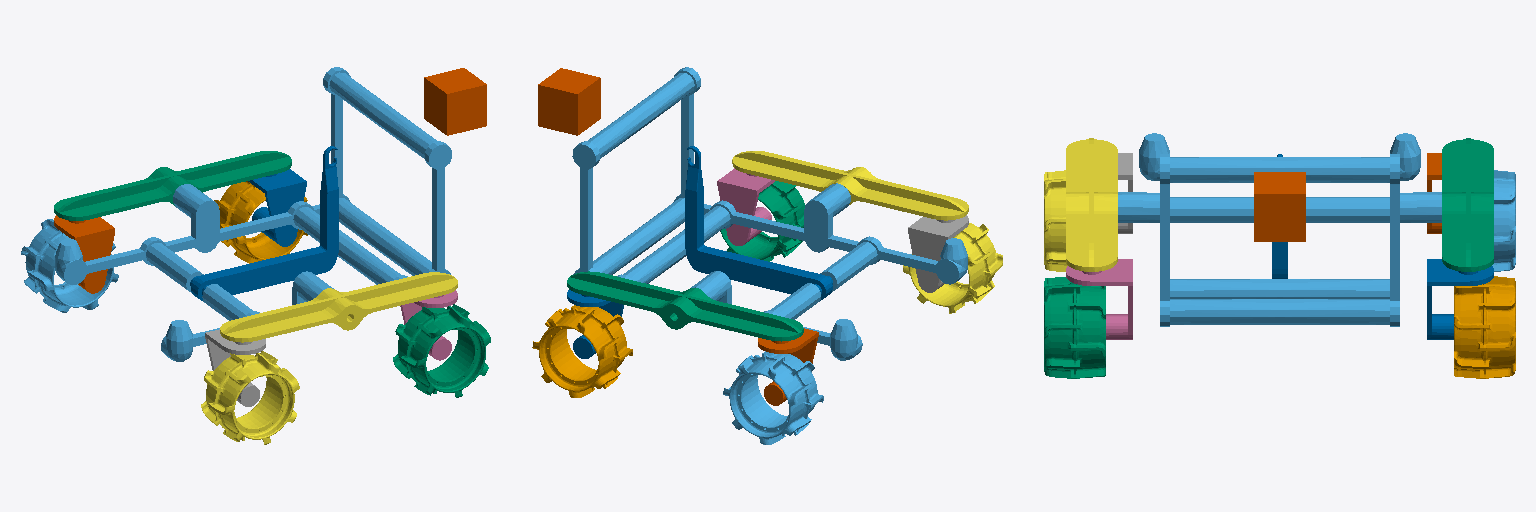
The robot description file, URDF, robot "RoRoverDiff":
<?xml version="1.0"?>
<robot name="RoRoverDiff">

<!-- ROS Control Plugin used to drive locomotion system and hook -->
  <gazebo>
    <plugin name="gazebo_ros_control" filename="libgazebo_ros_control.so">
      <!--robotNamespace>/rorover</robotNamespace-->
    </plugin>
  </gazebo>

<!-- dummy root link to support KDL -->
  <link name="base_link" />

  <joint name="base_link_to_chassis" type="fixed">
    <parent link="base_link"/>
    <child link="chassis"/>
  </joint>

<!-- Root Chassis -->
      <link name='chassis'>
        <collision>
          <origin xyz="0.0 0.0 0.0" rpy="0.0 0.0 0.0" />
          <geometry>
            <mesh filename="package://rorover_skid_steer/meshes/DifferentialChassis.stl" />
          </geometry>
          <surface>
            <bounce>
              <restitution_coefficient>0.35</restitution_coefficient>
              <threshold>0.025</threshold>
            </bounce>
          </surface>
        </collision>
        <visual>
          <origin xyz="0.0 0.0 0.0" rpy="0.0 0.0 0.0" />
          <geometry>
            <mesh filename="package://rorover_skid_steer/meshes/DifferentialChassis.stl" />
          </geometry>
        </visual>
      <inertial>
        <mass value="5.306" />
        <origin xyz="0.123149 0.0 0.06677"
                rpy="0.0 -0.2556907354 0.0" />
        <inertia
 	  ixx="0.221974787" ixy="0.0" ixz="0.0"
	  iyy="0.341467333" iyz="0.0"
	  izz="0.454114912" />
      </inertial>
      </link>

<!-- Left Differential Suspension Arm -->
      <link name='left_arm'>
        <collision>
          <origin xyz="0.0 0.0 0.0" rpy="0.0 0.0 0.0" />
          <geometry>
            <mesh filename="package://rorover_skid_steer/meshes/SuspensionArm.stl" />
          </geometry>
          <surface>
            <bounce>
              <restitution_coefficient>0.35</restitution_coefficient>
              <threshold>0.025</threshold>
            </bounce>
          </surface>
        </collision>
        <visual>
          <origin xyz="0.0 0.0 0.0" rpy="0.0 0.0 0.0" />
          <geometry>
            <mesh filename="package://rorover_skid_steer/meshes/SuspensionArm.stl" />
          </geometry>
        </visual>
      <inertial>
        <mass value="0.906" />
        <origin xyz="0.0 0.0 0.004832"
                rpy="0.0 0.0 0.0" />
        <inertia
 	  ixx="0.000742332" ixy="0.0" ixz="0.0"
	  iyy="0.018848023" iyz="0.0"
	  izz="0.019383356" />
      </inertial>
      </link>

      <joint type="fixed" name="left_arm_hinge">
	<origin xyz="0.0 0.36 0.065"
                rpy="0.0 0.0 0.0" />
        <child link="left_arm" />
        <parent link="chassis" />
        <!--axis xyz="0 1 0" />
        <limit lower="-0.2" upper="0.2" effort="100" velocity="1.0" />
        <dynamics damping="0.1" /-->
      </joint>

<!-- Right Differential Suspension Arm -->
      <link name='right_arm'>
        <collision>
          <origin xyz="0.0 0.0 0.0" rpy="0.0 0.0 0.0" />
          <geometry>
            <mesh filename="package://rorover_skid_steer/meshes/SuspensionArm.stl" />
          </geometry>
          <surface>
            <bounce>
              <restitution_coefficient>0.35</restitution_coefficient>
              <threshold>0.025</threshold>
            </bounce>
          </surface>
        </collision>
        <visual>
          <origin xyz="0.0 0.0 0.0" rpy="0.0 0.0 0.0" />
          <geometry>
            <mesh filename="package://rorover_skid_steer/meshes/SuspensionArm.stl" />
          </geometry>
        </visual>
      <inertial>
        <mass value="0.906" />
        <origin xyz="0.0 0.0 0.004832"
                rpy="0.0 0.0 0.0" />
        <inertia
 	  ixx="0.000742332" ixy="0.0" ixz="0.0"
	  iyy="0.018848023" iyz="0.0"
	  izz="0.019383356" />
      </inertial>
      </link>

      <joint type="fixed" name="right_arm_hinge">
	<origin xyz="0.0 -0.36 0.065"
                rpy="0.0 0.0 0.0" />
        <child link="right_arm" />
        <parent link="chassis" />
        <!--axis xyz="0 -1 0" />
        <limit lower="-0.2" upper="0.2" effort="100" velocity="1.0" />
        <mimic joint="left_arm_hinge" /-->
      </joint>

<!-- Mimic Joint plugin to create differential suspension -->
  <!--gazebo>
    <plugin name="gazebo_mimic_joint" filename="libroboticsgroup_gazebo_mimic_joint_plugin.so">
      <joint>left_arm_hinge</joint>
        <mimicJoint>right_arm_hinge</mimicJoint>
        <multiplier>1.0</multiplier>
        <sensitiveness>0.0</sensitiveness>   
        <maxEffort>100.0</maxEffort>             
      </plugin>
  </gazebo-->

<!-- Left Front Steering Arm -->
      <link name='left_front_steering'>
        <collision>
          <origin xyz="0.0 0.0 0.0" rpy="0.0 0.0 0.0" />
          <geometry>
            <mesh filename="package://rorover_skid_steer/meshes/SteeringArm.stl" />
          </geometry>
          <surface>
            <bounce>
              <restitution_coefficient>0.35</restitution_coefficient>
              <threshold>0.025</threshold>
            </bounce>
          </surface>
        </collision>
        <visual>
          <origin xyz="0.0 0.0 0.0" rpy="0.0 0.0 0.0" />
          <geometry>
            <mesh filename="package://rorover_skid_steer/meshes/SteeringArm.stl" />
          </geometry>
        </visual>
      <inertial>
        <mass value="0.420" />
        <origin xyz="0.0 0.030299 -0.082164"
                rpy="-0.0218166156 0.0 0.0" />
        <inertia
 	  ixx="0.001752153" ixy="0.0" ixz="0.0"
	  iyy="0.001383863" iyz="0.0"
	  izz="0.000702665" />
      </inertial>
      </link>

      <joint type="fixed" name="left_front_steering_joint">
	<origin xyz="0.24 0.0 -0.01"
                rpy="0.0 0.0 3.1416" />
        <child link="left_front_steering" />
        <parent link="left_arm" />
      </joint>

<!-- Left Rear Steering Arm -->
      <link name='left_rear_steering'>
        <collision>
          <origin xyz="0.0 0.0 0.0" rpy="0.0 0.0 0.0" />
          <geometry>
            <mesh filename="package://rorover_skid_steer/meshes/SteeringArm.stl" />
          </geometry>
          <surface>
            <bounce>
              <restitution_coefficient>0.35</restitution_coefficient>
              <threshold>0.025</threshold>
            </bounce>
          </surface>
        </collision>
        <visual>
          <origin xyz="0.0 0.0 0.0" rpy="0.0 0.0 0.0" />
          <geometry>
            <mesh filename="package://rorover_skid_steer/meshes/SteeringArm.stl" />
          </geometry>
        </visual>
      <inertial>
        <mass value="0.420" />
        <origin xyz="0.0 0.030299 -0.082164"
                rpy="-0.0218166156 0.0 0.0" />
        <inertia
 	  ixx="0.001752153" ixy="0.0" ixz="0.0"
	  iyy="0.001383863" iyz="0.0"
	  izz="0.000702665" />
      </inertial>
      </link>

      <joint type="fixed" name="left_rear_steering_joint">
	<origin xyz="-0.24 0.0 -0.01"
                rpy="0.0 0.0 3.1416" />
        <child link="left_rear_steering" />
        <parent link="left_arm" />
      </joint>

<!-- Right Front Steering Arm -->
      <link name='right_front_steering'>
        <collision>
          <origin xyz="0.0 0.0 0.0" rpy="0.0 0.0 0.0" />
          <geometry>
            <mesh filename="package://rorover_skid_steer/meshes/SteeringArm.stl" />
          </geometry>
          <surface>
            <bounce>
              <restitution_coefficient>0.35</restitution_coefficient>
              <threshold>0.025</threshold>
            </bounce>
          </surface>
        </collision>
        <visual>
          <origin xyz="0.0 0.0 0.0" rpy="0.0 0.0 0.0" />
          <geometry>
            <mesh filename="package://rorover_skid_steer/meshes/SteeringArm.stl" />
          </geometry>
        </visual>
      <inertial>
        <mass value="0.420" />
        <origin xyz="0.0 0.030299 -0.082164"
                rpy="-0.0218166156 0.0 0.0" />
        <inertia
 	  ixx="0.001752153" ixy="0.0" ixz="0.0"
	  iyy="0.001383863" iyz="0.0"
	  izz="0.000702665" />
      </inertial>
      </link>

      <joint type="fixed" name="right_front_steering_joint">
	<origin xyz="0.24 0.0 -0.01"
                rpy="0.0 0.0 0.0" />
        <child link="right_front_steering" />
        <parent link="right_arm" />
      </joint>

<!-- Right Rear Steering Arm -->
      <link name='right_rear_steering'>
        <collision>
          <origin xyz="0.0 0.0 0.0" rpy="0.0 0.0 0.0" />
          <geometry>
            <mesh filename="package://rorover_skid_steer/meshes/SteeringArm.stl" />
          </geometry>
          <surface>
            <bounce>
              <restitution_coefficient>0.35</restitution_coefficient>
              <threshold>0.025</threshold>
            </bounce>
          </surface>
        </collision>
        <visual>
          <origin xyz="0.0 0.0 0.0" rpy="0.0 0.0 0.0" />
          <geometry>
            <mesh filename="package://rorover_skid_steer/meshes/SteeringArm.stl" />
          </geometry>
        </visual>
      <inertial>
        <mass value="0.420" />
        <origin xyz="0.0 0.030299 -0.082164"
                rpy="-0.0218166156 0.0 0.0" />
        <inertia
 	  ixx="0.001752153" ixy="0.0" ixz="0.0"
	  iyy="0.001383863" iyz="0.0"
	  izz="0.000702665" />
      </inertial>
      </link>

      <joint type="fixed" name="right_rear_steering_joint">
	<origin xyz="-0.24 0.0 -0.01"
                rpy="0.0 0.0 0.0" />
        <child link="right_rear_steering" />
        <parent link="right_arm" />
      </joint>

<!-- Left Front Wheel link, joint and transmission -->
      <link name="left_front_wheel">
        <collision name="collision">
          <origin xyz="0.0 0.0 0.0" rpy="0.0 0.0 0.0" />
          <geometry>
            <cylinder length="0.117" radius="0.1" />
          </geometry>
          <surface>
            <bounce>
              <restitution_coefficient>0.35</restitution_coefficient>
              <threshold>0.025</threshold>
            </bounce>
          </surface>
        </collision>
        <visual name="visual">
          <origin xyz="0.0 0.0 0.0" rpy="0.0 0.0 0.0" />
          <geometry>
            <mesh filename="package://rorover_skid_steer/meshes/wheel_unders.dae" />
          </geometry>
        </visual>
        <inertial>
          <mass value="0.454"/>
	  <origin zyx="0.0 0.0 0.001805" rpy="0.0 0.0 0.5167919915" />
	  <inertia 
	    ixx="0.001983016" ixy="0.0" ixz="0.0"
	    iyy="0.001983016" iyz="0.0"
	    izz="0.00297862" />
        </inertial>
      </link>

      <joint type="continuous" name="left_front_wheel_hinge">
	<origin xyz="0.0 -0.0315 -0.130" rpy="1.5707 0.0 0.0" />
        <child link="left_front_wheel" />
        <parent link="left_front_steering" />
        <axis xyz="0 0 1" />
        <dynamics damping="0.1" />
      </joint>

  <transmission name="left_front_trans">
    <type>transmission_interface/SimpleTransmission</type>
    <joint name="left_front_wheel_hinge">
      <hardwareInterface>hardware_interface/VelocityJointInterface</hardwareInterface>
    </joint>
    <actuator name="left_front_motor">
      <mechanicalReduction>1</mechanicalReduction>
    </actuator>
  </transmission>

<!-- Left Rear Wheel link, joint and transmission -->
      <link name="left_rear_wheel">
        <collision name="collision">
          <origin xyz="0.0 0.0 0.0" rpy="0.0 0.0 0.0" />
          <geometry>
            <cylinder length="0.117" radius="0.1" />
          </geometry>
          <surface>
            <bounce>
              <restitution_coefficient>0.35</restitution_coefficient>
              <threshold>0.025</threshold>
            </bounce>
          </surface>
        </collision>
        <visual name="visual">
          <origin xyz="0.0 0.0 0.0" rpy="0.0 0.0 0.0" />
          <geometry>
            <mesh filename="package://rorover_skid_steer/meshes/wheel_unders.dae" />
          </geometry>
        </visual>
        <inertial>
          <mass value="0.454"/>
	  <origin zyx="0.0 0.0 0.001805" rpy="0.0 0.0 0.5167919915" />
	  <inertia 
	    ixx="0.001983016" ixy="0.0" ixz="0.0"
	    iyy="0.001983016" iyz="0.0"
	    izz="0.00297862" />
        </inertial>
      </link>

      <joint type="continuous" name="left_rear_wheel_hinge">
	<origin xyz="0.0 -0.0315 -0.130" rpy="1.5707 0.0 0.0" />
        <child link="left_rear_wheel" />
        <parent link="left_rear_steering" />
        <axis xyz="0 0 1" />
        <dynamics damping="0.1" />
      </joint>

  <transmission name="left_rear_trans">
    <type>transmission_interface/SimpleTransmission</type>
    <joint name="left_rear_wheel_hinge">
      <hardwareInterface>hardware_interface/VelocityJointInterface</hardwareInterface>
    </joint>
    <actuator name="left_rear_motor">
      <mechanicalReduction>1</mechanicalReduction>
    </actuator>
  </transmission>







<!-- Right Front Wheel link, joint and transmission -->
      <link name="right_front_wheel">
        <collision name="collision">
          <origin xyz="0.0 0.0 0.0" rpy="0.0 0.0 0.0" />
          <geometry>
            <cylinder length="0.117" radius="0.1" />
          </geometry>
          <surface>
            <bounce>
              <restitution_coefficient>0.35</restitution_coefficient>
              <threshold>0.025</threshold>
            </bounce>
          </surface>
        </collision>
        <visual name="visual">
          <origin xyz="0.0 0.0 0.0" rpy="0.0 0.0 0.0" />
          <geometry>
            <mesh filename="package://rorover_skid_steer/meshes/wheel_unders.dae" />
          </geometry>
        </visual>
        <inertial>
          <mass value="0.454"/>
	  <origin zyx="0.0 0.0 0.001805" rpy="0.0 0.0 0.5167919915" />
	  <inertia 
	    ixx="0.001983016" ixy="0.0" ixz="0.0"
	    iyy="0.001983016" iyz="0.0"
	    izz="0.00297862" />
        </inertial>
      </link>

      <joint type="continuous" name="right_front_wheel_hinge">
	<origin xyz="0.0 -0.0315 -0.130" rpy="1.5707 0.0 0.0" />
        <child link="right_front_wheel" />
        <parent link="right_front_steering" />
        <axis xyz="0 0 -1" />
        <dynamics damping="0.1" />
      </joint>

  <transmission name="right_front_trans">
    <type>transmission_interface/SimpleTransmission</type>
    <joint name="right_front_wheel_hinge">
      <hardwareInterface>hardware_interface/VelocityJointInterface</hardwareInterface>
    </joint>
    <actuator name="right_front_motor">
      <mechanicalReduction>1</mechanicalReduction>
    </actuator>
  </transmission>

<!-- Right Rear Wheel link, joint and transmission -->
      <link name="right_rear_wheel">
        <collision name="collision">
          <origin xyz="0.0 0.0 0.0" rpy="0.0 0.0 0.0" />
          <geometry>
            <cylinder length="0.117" radius="0.1" />
          </geometry>
          <surface>
            <bounce>
              <restitution_coefficient>0.35</restitution_coefficient>
              <threshold>0.025</threshold>
            </bounce>
          </surface>
        </collision>
        <visual name="visual">
          <origin xyz="0.0 0.0 0.0" rpy="0.0 0.0 0.0" />
          <geometry>
            <mesh filename="package://rorover_skid_steer/meshes/wheel_unders.dae" />
          </geometry>
        </visual>
        <inertial>
          <mass value="0.454"/>
	  <origin zyx="0.0 0.0 0.001805" rpy="0.0 0.0 0.5167919915" />
	  <inertia 
	    ixx="0.001983016" ixy="0.0" ixz="0.0"
	    iyy="0.001983016" iyz="0.0"
	    izz="0.00297862" />
        </inertial>
      </link>

      <joint type="continuous" name="right_rear_wheel_hinge">
	<origin xyz="0.0 -0.0315 -0.130" rpy="1.5707 0.0 0.0" />
        <child link="right_rear_wheel" />
        <parent link="right_rear_steering" />
        <axis xyz="0 0 -1" />
        <dynamics damping="0.1" />
      </joint>

  <transmission name="right_rear_trans">
    <type>transmission_interface/SimpleTransmission</type>
    <joint name="right_rear_wheel_hinge">
      <hardwareInterface>hardware_interface/VelocityJointInterface</hardwareInterface>
    </joint>
    <actuator name="right_rear_motor">
      <mechanicalReduction>1</mechanicalReduction>
    </actuator>
  </transmission>

<!-- Roll On Roll Off Hook -->
      <link name="hook">
        <collision name="collision">
          <origin xyz="0.0 0.0 0.0" rpy="0.0 0.0 0.0" />
          <geometry>
            <mesh filename="package://rorover_skid_steer/meshes/Hook_Arm_v0.2_collision.stl" />
          </geometry>
          <surface>
            <bounce>
              <restitution_coefficient>0.35</restitution_coefficient>
              <threshold>0.025</threshold>
            </bounce>
          </surface>
        </collision>
        <visual name="visual">
          <origin xyz="0.0 0.0 0.0" rpy="0.0 0.0 0.0" />
          <geometry>
            <mesh filename="package://rorover_skid_steer/meshes/Hook_Arm_v0.2_collision.stl" />
          </geometry>
        </visual>
        <inertial>
          <mass value="0.702" />
	  <origin xyz="0.0 0.1826163 0.027687"
                  rpy="0.3199188519 0.0 0.0" />
	  <inertia 
	    ixx="0.011657837" ixy="0.0" ixz="0.0"
	    iyy="0.001605345" iyz="0.0"
	    izz="0.010187828" />
        </inertial>
      </link>

      <joint type="revolute" name="joint1">
	<origin xyz="-0.13 0.0 0.0" rpy="0.0 0.0 -1.5707" />
        <child link="hook" />
        <parent link="chassis" />
        <axis xyz="1 0 0" />
        <limit lower="-0.0" upper="2.617993878" effort="100" velocity="0.0001" />
        <safety_controller_not k_velocity="100" k_position="100" soft_lower_limit="0.0" soft_upper_limit="2.517" />
      </joint>

  <transmission name="hook_trans">
    <type>transmission_interface/SimpleTransmission</type>
    <joint name="joint1">
      <hardwareInterface>hardware_interface/EffortJointInterface</hardwareInterface>
    </joint>
    <actuator name="hook_motor">
      <mechanicalReduction>50</mechanicalReduction>
    </actuator>
  </transmission>

<!-- Navigation Camera parts -->
    <link name="camera_link">
      <collision name="collision">
        <origin xyz="0.0 0.0 0.0" rpy="0.0 0.0 0.0" />
        <geometry>
          <box size="0.1 0.1 0.1" />
        </geometry>
      </collision>
      <visual name="visual">
        <origin xyz="0.0 0.0 0.0" rpy="0.0 0.0 0.0" />
        <geometry>
          <box size="0.1 0.1 0.1" />
        </geometry>
      </visual>
        <inertial>
          <mass value="0.1" />
	  <origin xyz="0.0 0.0 0.0" rpy="0.0 0.0 0.0" />
	  <inertia 
	    ixx="0.001" ixy="0.0" ixz="0.0"
	    iyy="0.001" iyz="0.0"
	    izz="0.001" />
        </inertial>
    </link>

      <joint type="fixed" name="camera_link">
	<origin xyz="0.5 0.0 0.3" rpy="0.0 0.0 -3.1416" />
        <child link="camera_link" />
        <parent link="chassis" />
      </joint>

  <gazebo reference="camera_link">
    <sensor type="wideanglecamera" name="camera1">
      <update_rate>30.0</update_rate>
      <camera>
          <horizontal_fov>2.141</horizontal_fov>
          <image>
            <width>320</width>
            <height>240</height>
          </image>
          <clip>
            <near>0.1</near>
            <far>100</far>
          </clip>
          <lens>
            <type>stereographic</type>
            <scale_to_hfov>true</scale_to_hfov>
            <cutoff_angle>1.5707</cutoff_angle>
            <env_texture_size>512</env_texture_size>
          </lens>
        </camera>
      <plugin name="camera_controller" filename="libgazebo_ros_camera.so">
        <alwaysOn>true</alwaysOn>
        <updateRate>0.0</updateRate>
        <cameraName>rrbot/camera1</cameraName>
        <imageTopicName>image_raw</imageTopicName>
        <cameraInfoTopicName>camera_info</cameraInfoTopicName>
        <frameName>camera_link</frameName>
        <hackBaseline>0.07</hackBaseline>
        <distortionK1>0.0</distortionK1>
        <distortionK2>0.0</distortionK2>
        <distortionK3>0.0</distortionK3>
        <distortionT1>0.0</distortionT1>
        <distortionT2>0.0</distortionT2>
      </plugin>
    </sensor>
  </gazebo>

</robot>

--- Facts derived from the render (not from the file) ---
The picture shows the robot from 3 angles, left to right: view 1: azimuth 30°, elevation 25°; view 2: azimuth 150°, elevation 25°; view 3: azimuth 270°, elevation 25°; orthographic projection.
Robot: RoRoverDiff — 14 links, 13 joints (1 revolute, 4 continuous, 8 fixed); root link base_link; default pose: all joints at 0.
Visible links, largest first — view 1: chassis, right_arm, left_arm, right_rear_wheel, right_front_wheel, hook, camera_link, left_rear_wheel, left_front_wheel, left_front_steering, left_rear_steering, right_rear_steering (+1 smaller); view 2: chassis, left_arm, right_arm, left_rear_wheel, left_front_wheel, hook, camera_link, right_rear_wheel, right_front_wheel, right_front_steering, right_rear_steering, left_rear_steering (+1 smaller); view 3: chassis, left_arm, right_arm, left_front_wheel, right_front_wheel, camera_link, right_rear_wheel, left_rear_wheel, left_front_steering, right_front_steering, left_rear_steering, right_rear_steering (+1 smaller).
Link boxes in pixels (bbox=[...]): chassis: bbox=[55, 67, 451, 361]; right_arm: bbox=[220, 272, 457, 342]; left_arm: bbox=[54, 151, 291, 220]; right_rear_wheel: bbox=[201, 351, 299, 444]; right_front_wheel: bbox=[393, 304, 490, 397]; hook: bbox=[190, 146, 338, 300]; camera_link: bbox=[424, 68, 486, 135]; left_rear_wheel: bbox=[21, 219, 118, 312]; left_front_wheel: bbox=[214, 181, 307, 263]; left_front_steering: bbox=[248, 169, 306, 246]; left_rear_steering: bbox=[54, 215, 114, 293]; right_rear_steering: bbox=[205, 329, 265, 406]; chassis: bbox=[572, 67, 967, 360]; left_arm: bbox=[567, 271, 803, 341]; right_arm: bbox=[732, 151, 968, 220]; left_rear_wheel: bbox=[723, 351, 823, 444]; left_front_wheel: bbox=[532, 305, 632, 397]; hook: bbox=[685, 146, 832, 300]; camera_link: bbox=[538, 68, 600, 135]; right_rear_wheel: bbox=[903, 223, 1002, 313]; right_front_wheel: bbox=[720, 181, 804, 261]; right_front_steering: bbox=[717, 168, 774, 245]; right_rear_steering: bbox=[908, 215, 968, 292]; left_rear_steering: bbox=[758, 328, 818, 405]; chassis: bbox=[1118, 133, 1441, 326]; left_arm: bbox=[1442, 138, 1493, 271]; right_arm: bbox=[1066, 138, 1117, 271]; left_front_wheel: bbox=[1454, 276, 1515, 378]; right_front_wheel: bbox=[1044, 277, 1105, 378]; camera_link: bbox=[1254, 172, 1305, 241]; right_rear_wheel: bbox=[1044, 170, 1067, 271]; left_rear_wheel: bbox=[1492, 170, 1515, 271]; left_front_steering: bbox=[1427, 259, 1493, 339]; right_front_steering: bbox=[1066, 259, 1132, 339]; left_rear_steering: bbox=[1427, 153, 1441, 233]; right_rear_steering: bbox=[1118, 153, 1132, 233].
Size in the robot's own frame: 0.91 by 0.9007 by 0.5231 metres.
12 mesh visuals loaded from 5 distinct referenced files (4 binary STL, 1 Collada DAE).